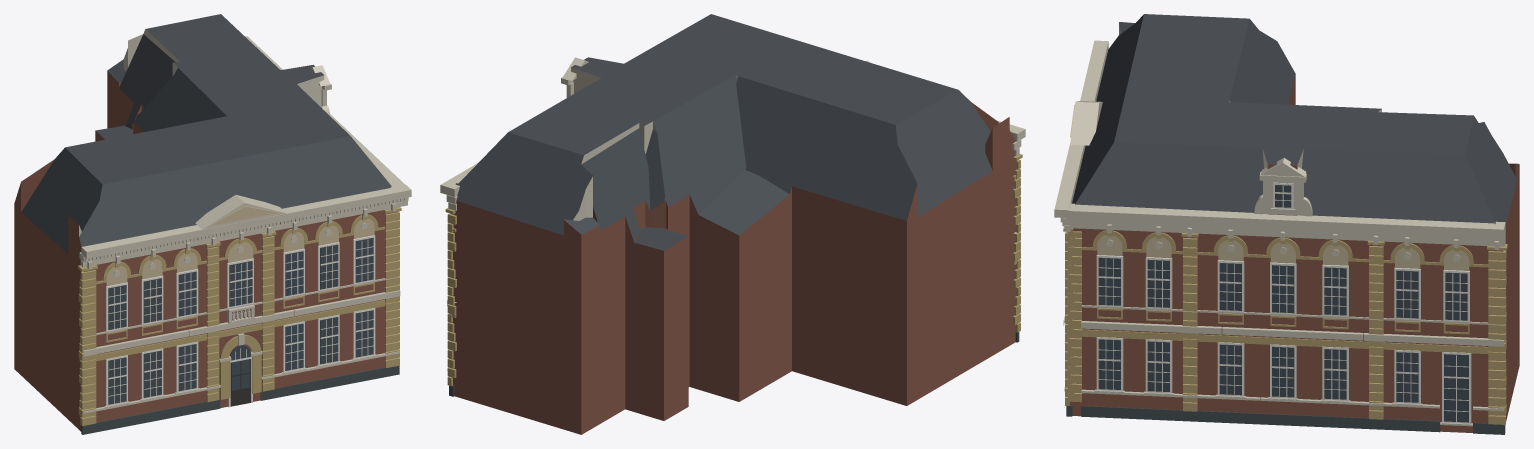
The model's file is muziekschool-jacob-van-campen.glb.
3 views of the same model, side by side, from view 1: azimuth 30°, elevation 25°; view 2: azimuth 150°, elevation 25°; view 3: azimuth 270°, elevation 25° (orthographic). The views are drawn at different scales.
Parts seen in each view (by area): view 1: muziekschool-jacob-van-campen; view 2: muziekschool-jacob-van-campen; view 3: muziekschool-jacob-van-campen.
Boxes of the visible parts, left/top/right/bottom form: muziekschool-jacob-van-campen: left=14, top=14, right=411, bottom=434; muziekschool-jacob-van-campen: left=440, top=14, right=1025, bottom=434; muziekschool-jacob-van-campen: left=1054, top=14, right=1519, bottom=434.
Size of the model in its own units: 23.09 by 15.05 by 24.01.
